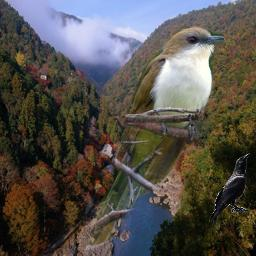Crow: (209, 153, 250, 227)
Cuckoo: (83, 23, 224, 250)
